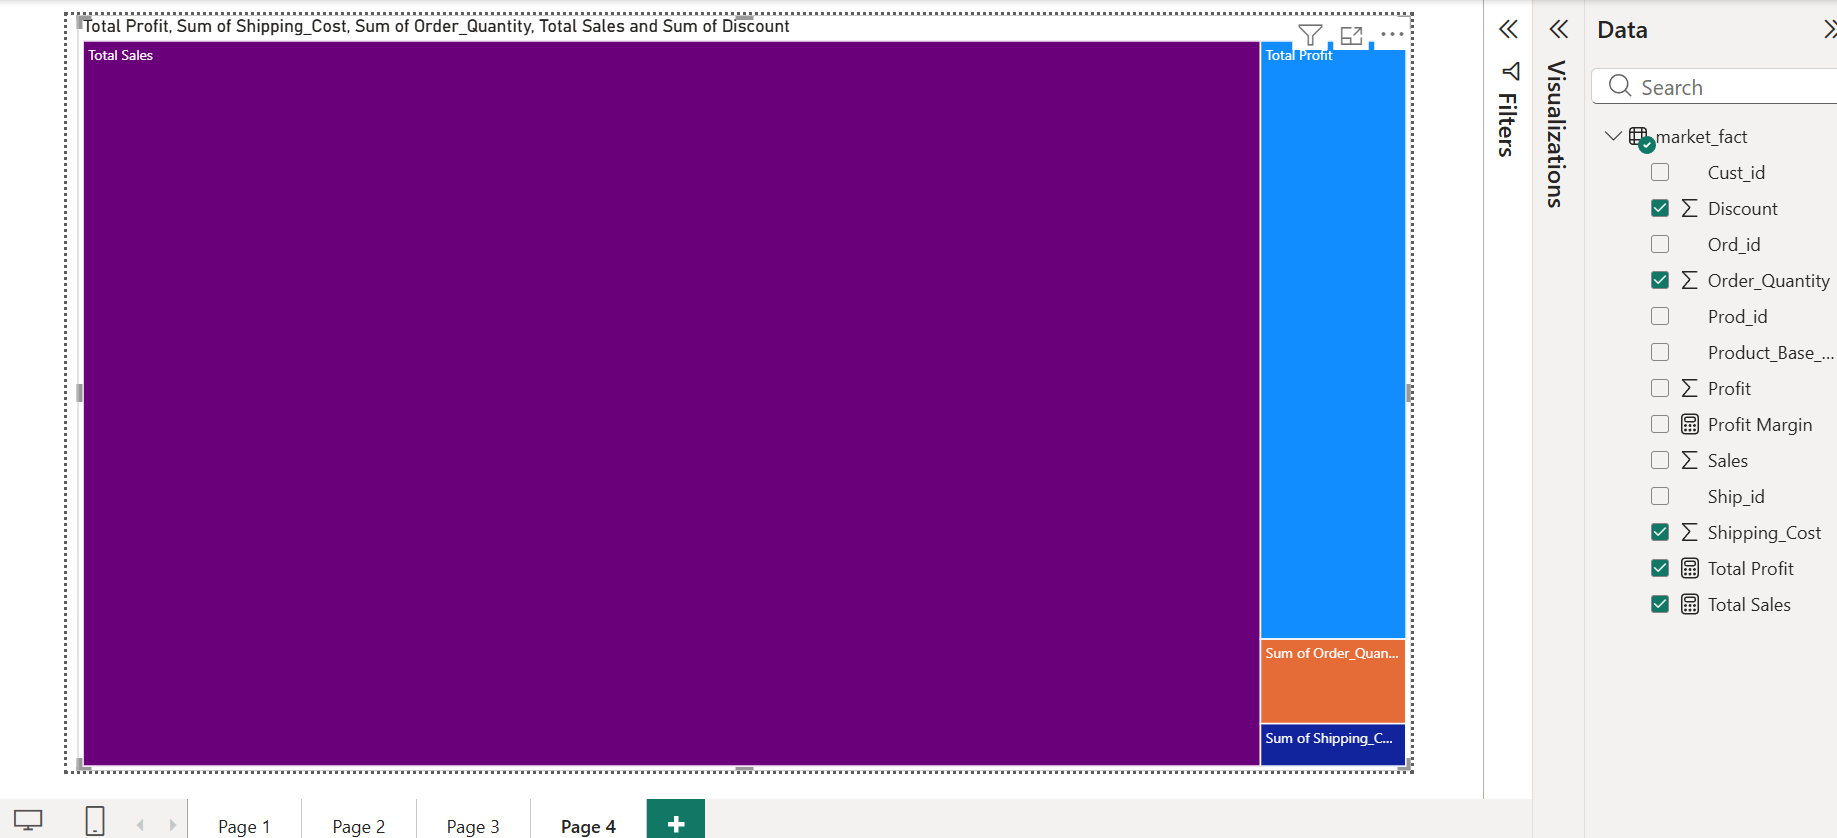

This screenshot's page, from the dashboard's own definition file:
{"tool":"powerbi","page":{"name":"Page 4","canvas":[1280,720],"ordinal":3},"visuals":[{"type":"treemap","fields":{"Values":["market_fact.Total Profit","Sum(market_fact.Shipping_Cost)","Sum(market_fact.Order_Quantity)","market_fact.Total Sales","Sum(market_fact.Discount)"]},"box":[10,0,1270,720],"z":0}]}

Visuals, with their boxes on the page's 1280x720 design canvas (x1, y1, x2, y2). These are canvas units, not pixel positions in the 1837x838 screenshot, which may show the page scaled, cropped or inside an application window:
treemap - market_fact.Total Profit x Sum(market_fact.Shipping_Cost): l=10, t=0, r=1280, b=720
